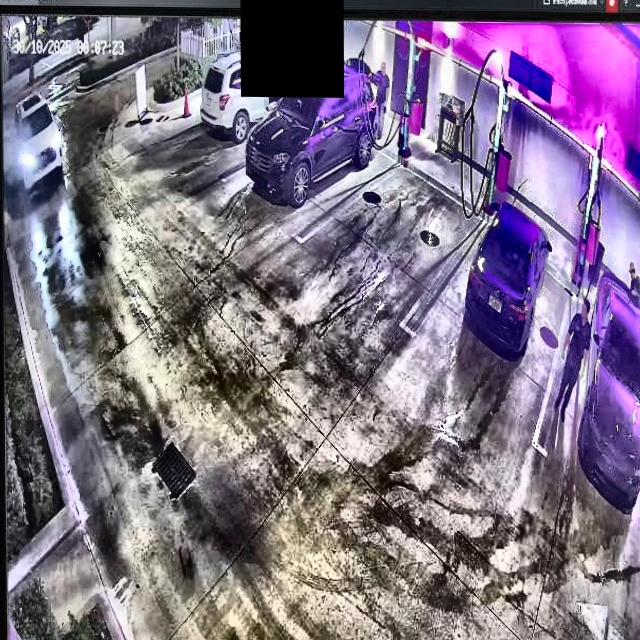Car: (245, 61, 379, 204), (463, 200, 552, 360)
